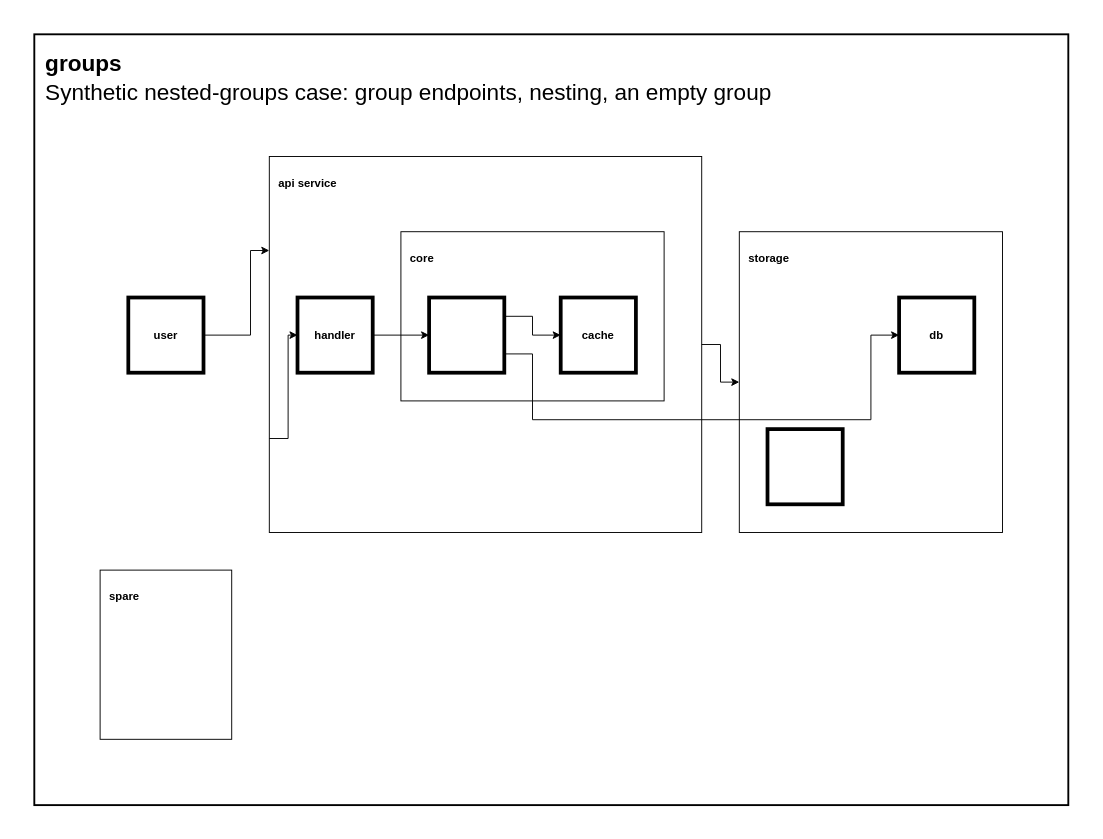
This 1103x839 diagram has some shape labels left out. The shapes that lost their labels are listed below. From the top down, each one's centre as x and y in pixels, then its label:
[466,334]: logic
[804,466]: blob
